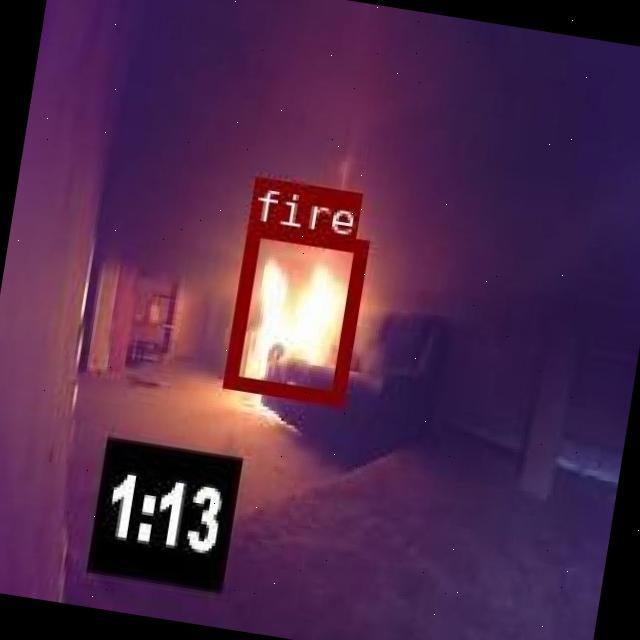fire: (222, 222, 366, 404)
